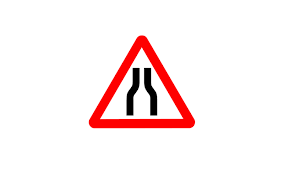Narrow_road: (85, 35, 197, 128)
